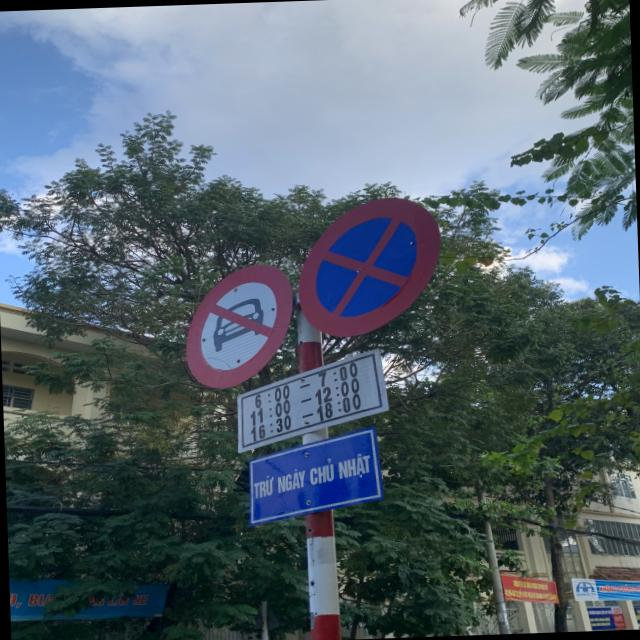Cam_Dung_Va_Dau_Xe: (296, 193, 444, 339)
Cam_O_To: (182, 261, 293, 389)
